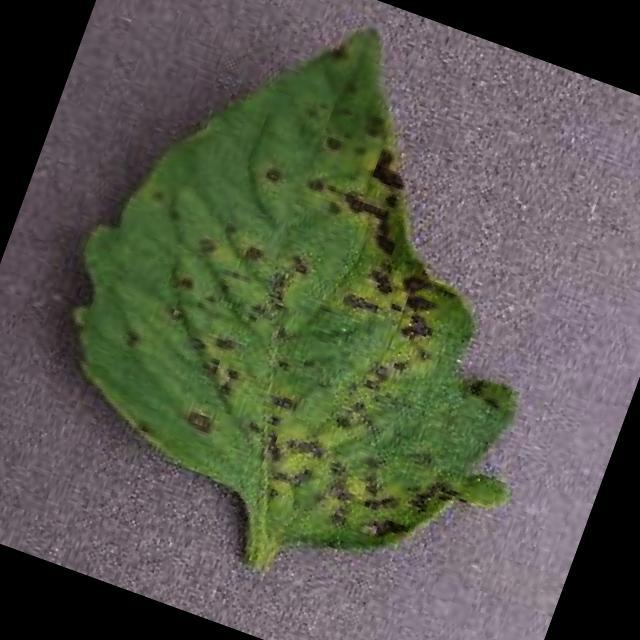Tomato Septoria spot leaf: (17, 0, 640, 610)
